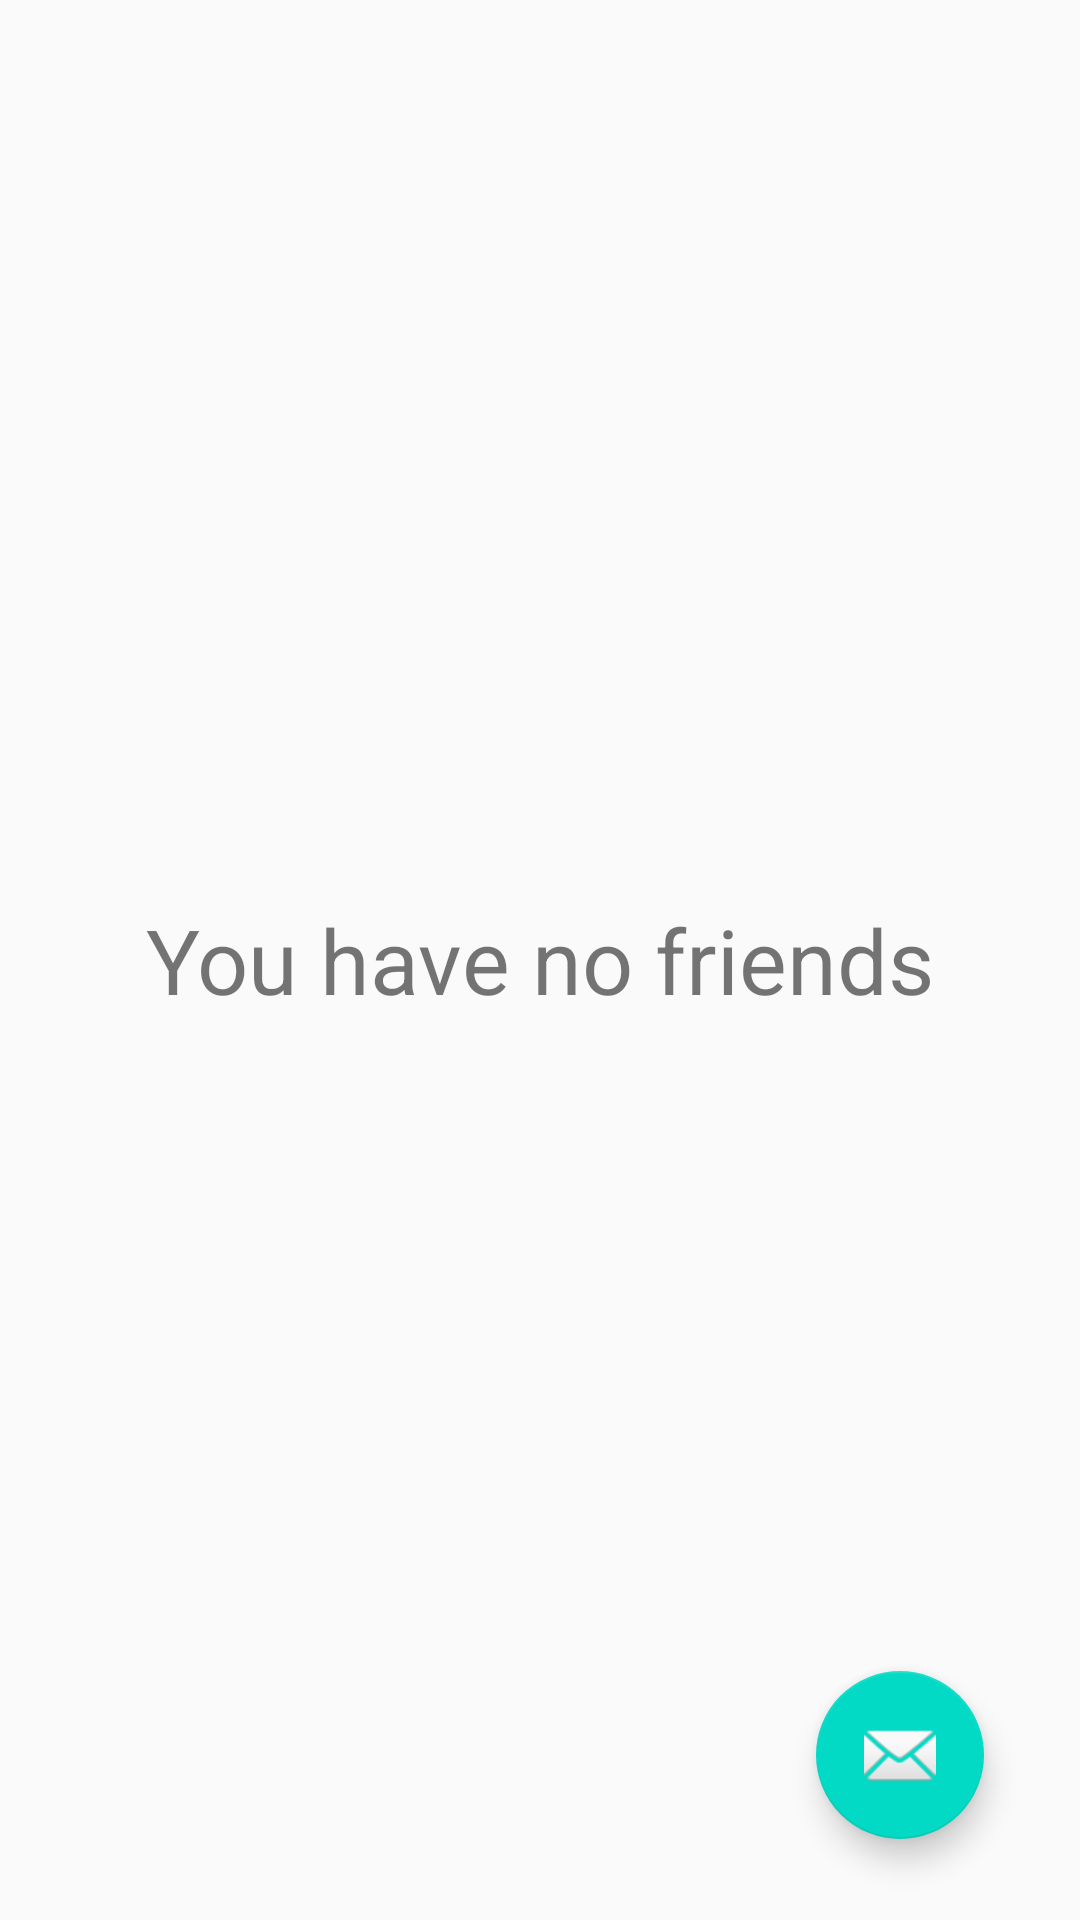

Where icons sit on this 1080*1920 app screen, as (x1, y1, x2, y2):
email: (816, 1671, 984, 1839)
